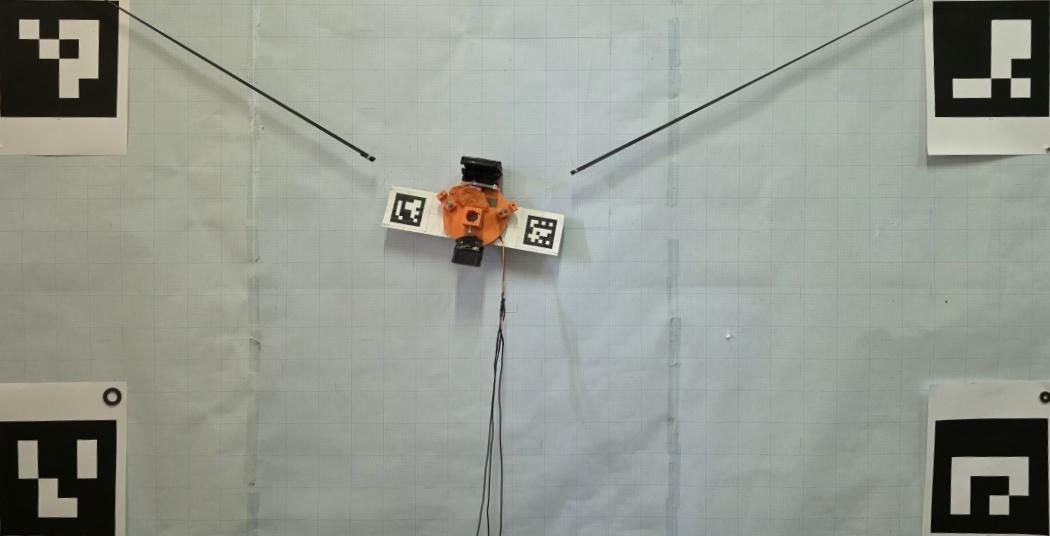robot: (435, 154, 518, 269)
